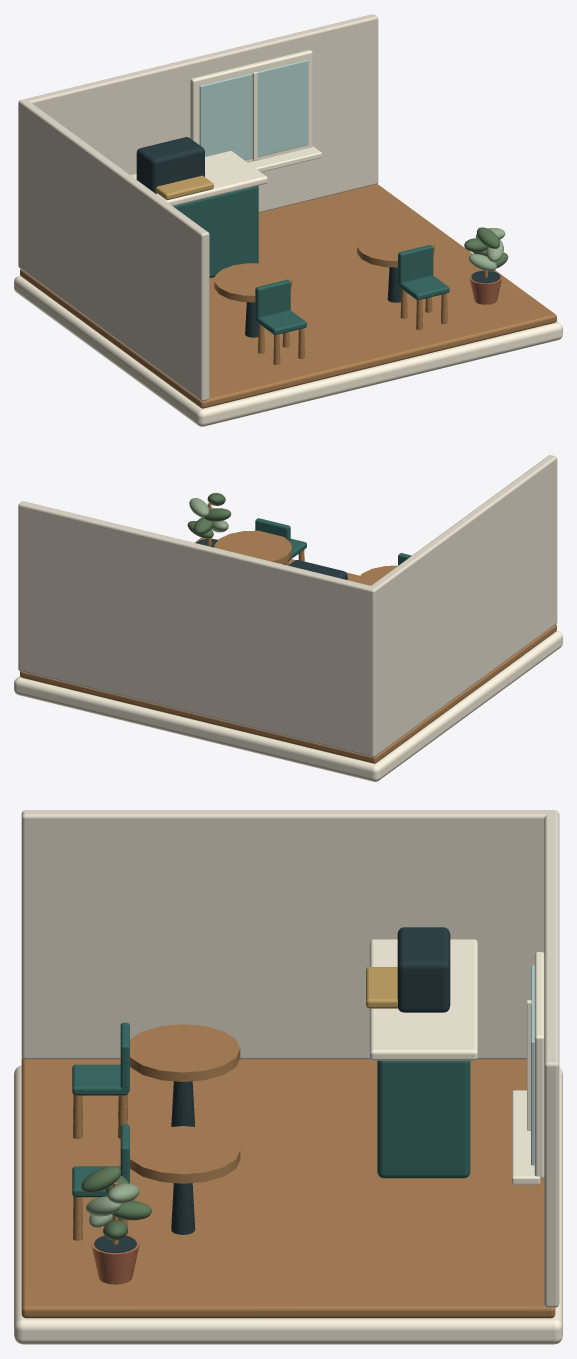
File: business-restaurant.glb
3 renders of one model, top to bottom at view 1: azimuth 30°, elevation 25°; view 2: azimuth 150°, elevation 25°; view 3: azimuth 270°, elevation 25°, orthographic. The views are drawn at different scales.
Visible parts, largest first — view 1: floor, side-wall, back-wall, foundation, window-glass, counter, tabletop (×2), espresso-machine, window-frame, back (×2), countertop, seat (×2) (+4 smaller); view 2: back-wall, side-wall, foundation, floor, tabletop (×2), espresso-machine, back; view 3: side-wall, floor, foundation, counter, tabletop (×2), countertop, back-wall, espresso-machine, window-frame, seat (×2), table-stem (×2), window-sill (+5 smaller).
Boxes of the visible parts, x1,y1,x2,y2 form: floor: (20,184,556,408); side-wall: (20,100,209,401); back-wall: (18,14,378,269); foundation: (14,275,562,426); window-glass: (199,59,308,160); counter: (173,185,258,277); tabletop (×2): (214,228,434,302); espresso-machine: (136,137,204,193); window-frame: (190,50,312,162); back (×2): (255,245,433,318); countertop: (130,151,267,206); seat (×2): (256,275,449,334); back-wall: (18,501,377,757); side-wall: (371,455,557,754); foundation: (14,631,562,781); floor: (20,537,556,763); tabletop (×2): (214,530,397,585); espresso-machine: (288,560,347,579); back: (255,518,290,541); side-wall: (21,810,551,1059); floor: (21,1058,555,1318); foundation: (14,1065,562,1344); counter: (377,1060,470,1178); tabletop (×2): (130,1024,240,1183); countertop: (369,939,477,1060); back-wall: (544,810,559,1307); espresso-machine: (397,927,450,1012); window-frame: (534,952,544,1178); seat (×2): (72,1064,128,1197); table-stem (×2): (171,1081,195,1234); window-sill: (512,1090,540,1184).
Size of the model in its own units: 4.1 by 2.06 by 3.65.
